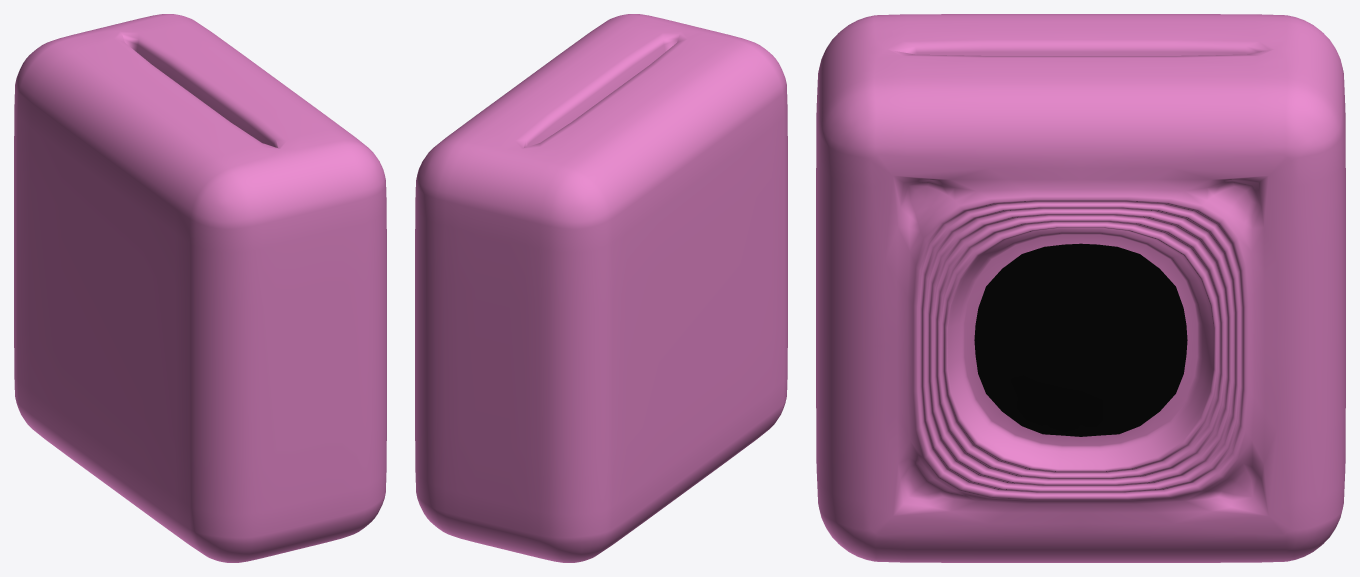
Rendered from Printer.fbx.
The picture shows the model from 3 angles, left to right: view 1: azimuth 30°, elevation 25°; view 2: azimuth 150°, elevation 25°; view 3: azimuth 270°, elevation 25°; orthographic projection. The views are drawn at different scales.
Parts seen in each view (by area): view 1: pasted__pCube1; view 2: pasted__pCube1; view 3: pasted__pCube1.
Part boxes in pixels (left/top/right/bottom): pasted__pCube1: left=14, top=14, right=386, bottom=562; pasted__pCube1: left=415, top=14, right=787, bottom=562; pasted__pCube1: left=816, top=14, right=1345, bottom=562.
Bounding box in the file's own units: 3.34 × 6.31 × 6.31.
